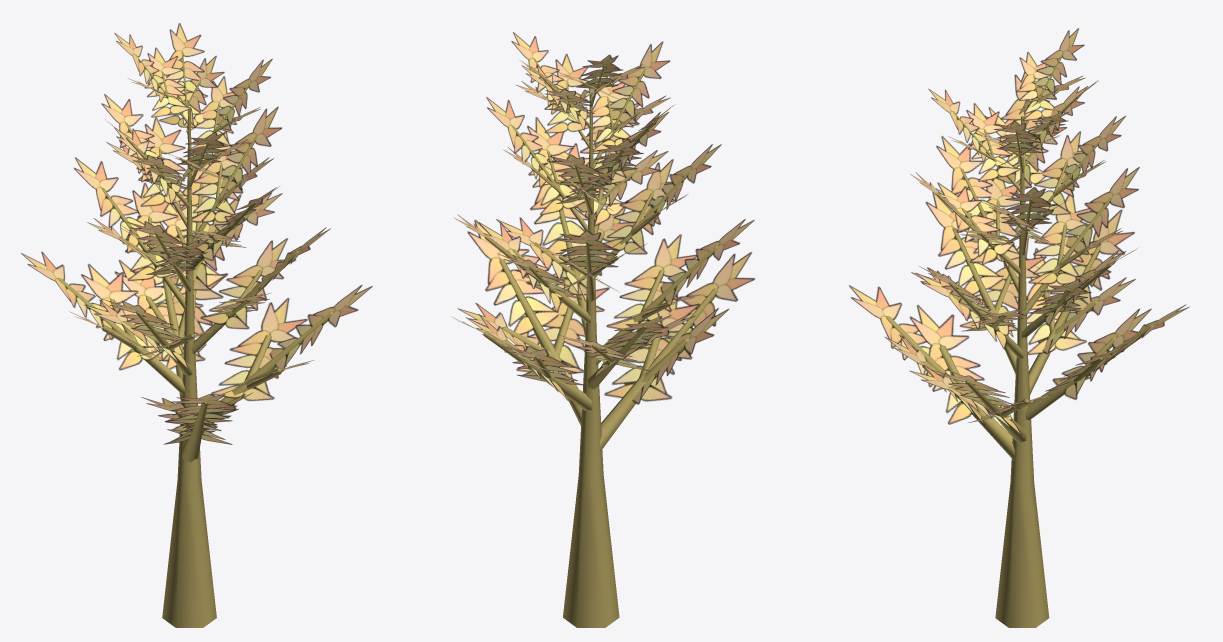
Rendered from poplar-ivory.glb.
The picture shows the model from 3 angles, left to right: view 1: azimuth 30°, elevation 25°; view 2: azimuth 150°, elevation 25°; view 3: azimuth 270°, elevation 25°; orthographic projection. The views are drawn at different scales.
Parts seen in each view (by area): view 1: leaf, bark; view 2: leaf, bark; view 3: leaf, bark.
Boxes of the visible parts, x1=… form: leaf: x1=21, y1=23, x2=372, y2=444; bark: x1=58, y1=52, x2=333, y2=627; leaf: x1=453, y1=32, x2=754, y2=404; bark: x1=483, y1=58, x2=717, y2=627; leaf: x1=849, y1=28, x2=1189, y2=434; bark: x1=886, y1=53, x2=1153, y2=627.
Bounding box in the file's own units: 2.43 × 4.19 × 2.58.
Materials: 2 (1 with a texture image).
